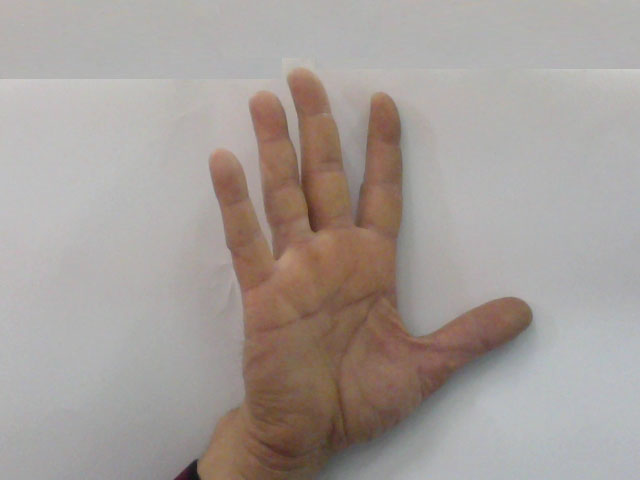hand: (194, 64, 551, 437)
